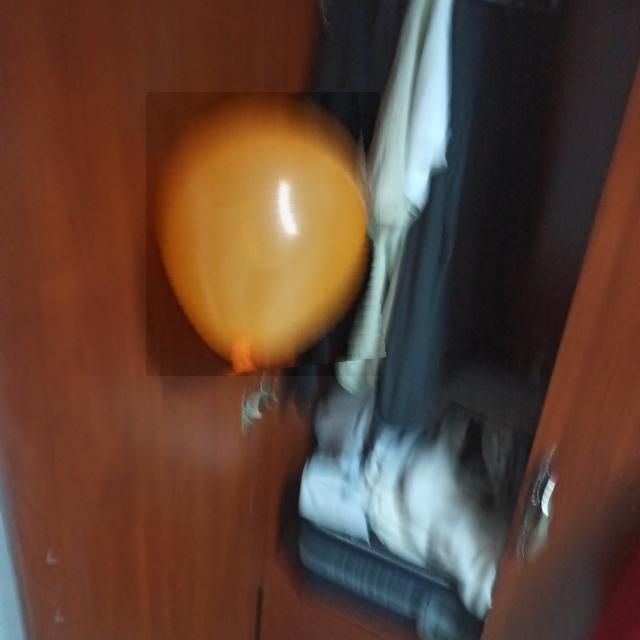balloon: (146, 92, 380, 376)
